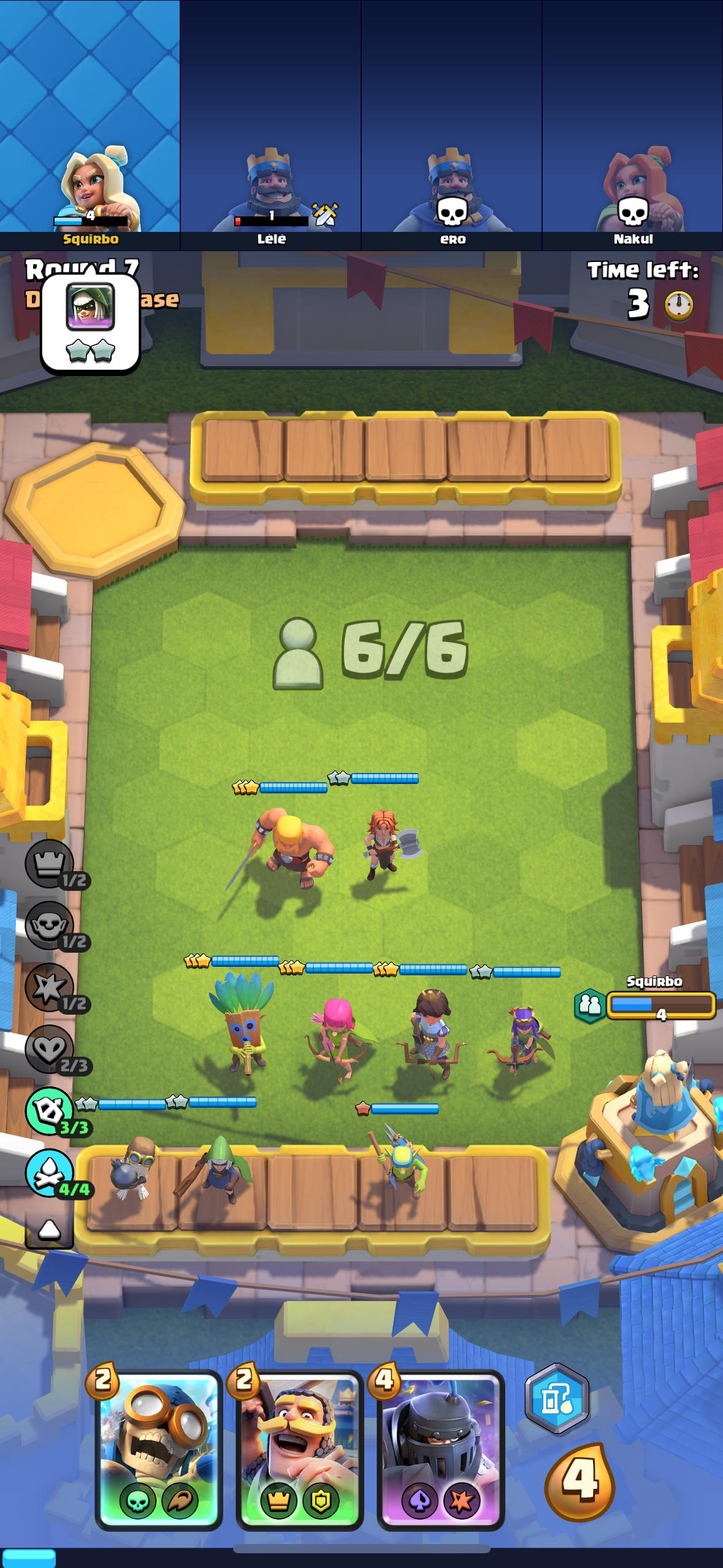archer: (306, 982, 374, 1078)
bandit: (189, 1137, 254, 1208)
barbarian: (234, 800, 330, 891)
bomber: (107, 1135, 159, 1202)
dart: (203, 972, 276, 1077)
hand-bomber: (95, 1378, 218, 1525)
hand-knight: (243, 1371, 365, 1530)
hand-mega: (376, 1373, 498, 1526)
princess: (404, 981, 465, 1076)
queen: (486, 1000, 556, 1087)
spear: (366, 1129, 434, 1208)
valkyrie: (356, 805, 422, 887)
